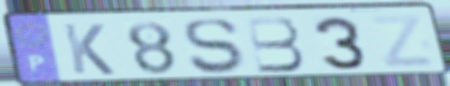3: (311, 15, 369, 72)
8: (123, 18, 180, 77)
B: (243, 15, 308, 75)
K: (59, 22, 118, 77)
S: (180, 17, 245, 76)
Z: (367, 13, 438, 70)
